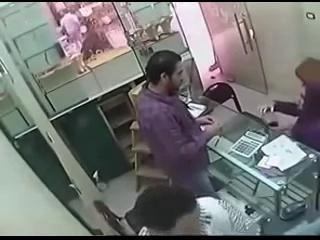Normal: (135, 50, 237, 212), (93, 185, 208, 236), (202, 82, 242, 113), (230, 129, 268, 158), (280, 200, 307, 220)
